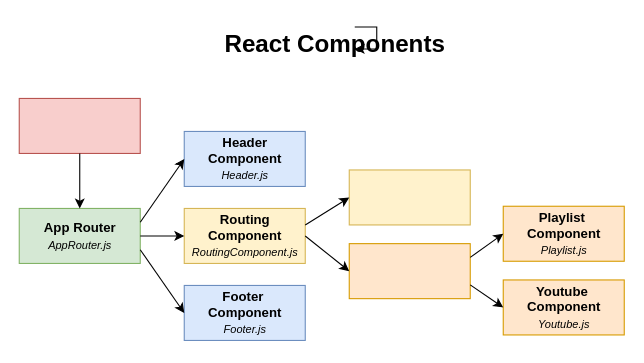
This 644x363 diagram has some shape labels left out. Each missing label, with the box of its shape:
App App.js: (18, 97, 140, 153)
Cards Component Cards.js: (348, 169, 470, 225)
Playback Component Playback.js: (348, 243, 470, 299)
